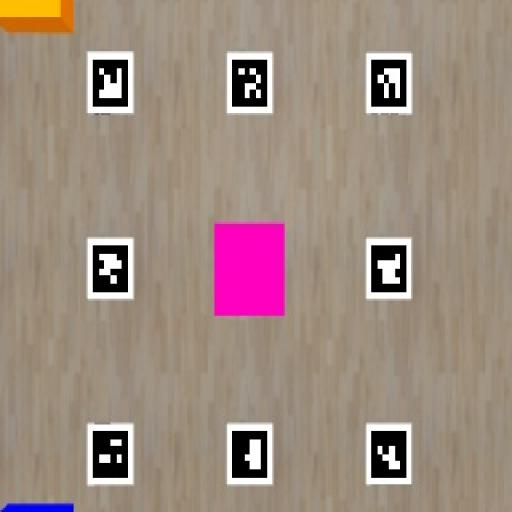car: (215, 222, 286, 315), (0, 502, 75, 511)
fire: (0, 0, 73, 34)
